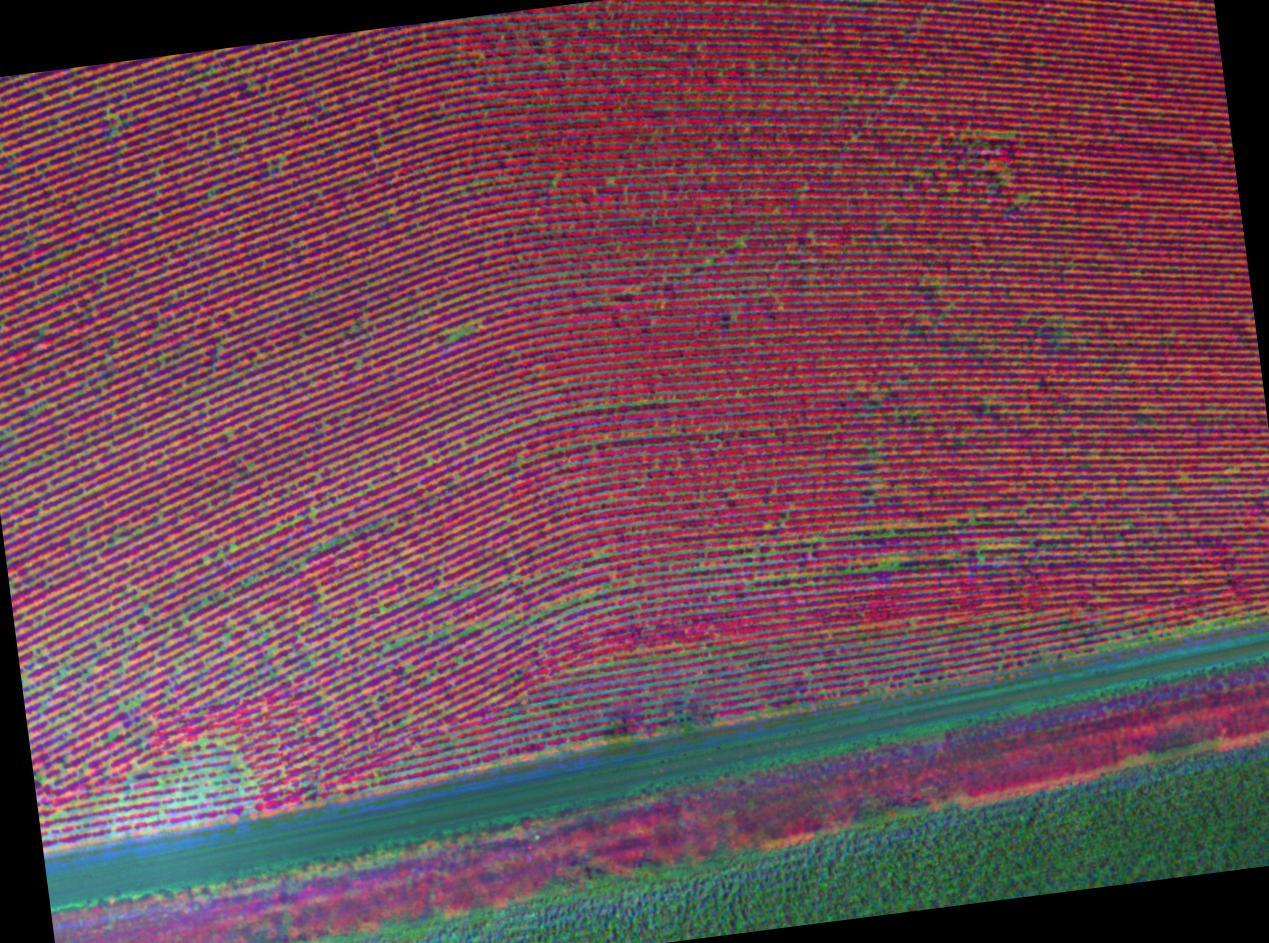dc: (454, 331, 460, 337), (466, 327, 471, 331), (146, 764, 150, 769), (200, 788, 205, 792), (1126, 631, 1130, 635), (408, 716, 412, 720), (236, 762, 240, 766), (815, 537, 819, 540), (205, 558, 208, 562), (882, 563, 885, 567), (557, 448, 560, 451)
